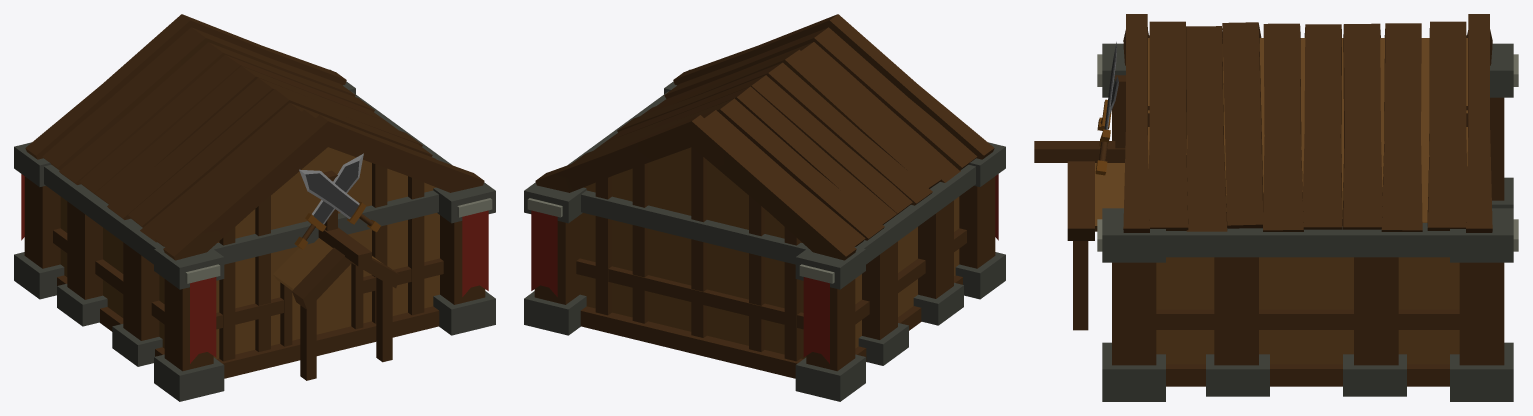
File: Barracks_FirstAge_Level1.obj
3 renders of one model, left to right at view 1: azimuth 30°, elevation 25°; view 2: azimuth 150°, elevation 25°; view 3: azimuth 270°, elevation 25°, orthographic. The views are drawn at different scales.
Parts seen in each view (by area): view 1: Barracks_FirstAge_Level1_Cube.001; view 2: Barracks_FirstAge_Level1_Cube.001; view 3: Barracks_FirstAge_Level1_Cube.001.
Part boxes in pixels (x1,y1,x2,y2): Barracks_FirstAge_Level1_Cube.001: [14, 14, 495, 401]; Barracks_FirstAge_Level1_Cube.001: [524, 14, 1005, 401]; Barracks_FirstAge_Level1_Cube.001: [1034, 14, 1518, 401].
Size of the model in its own units: 1.01 by 0.7192 by 1.08.
